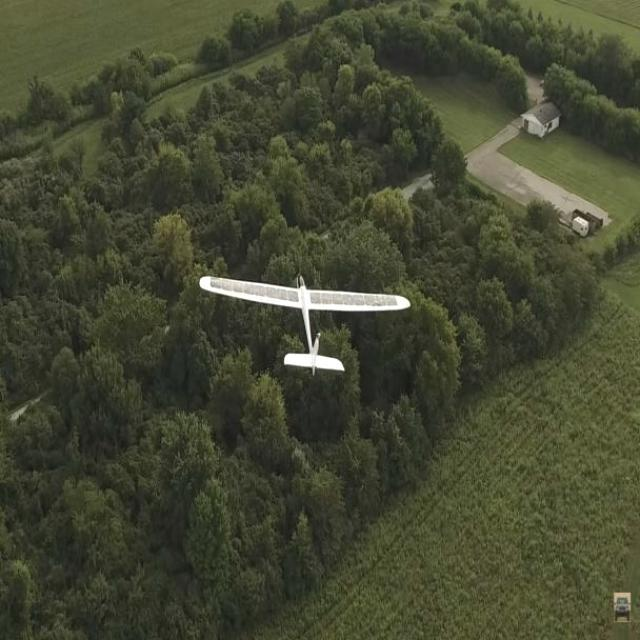iha: (195, 301, 414, 348)
